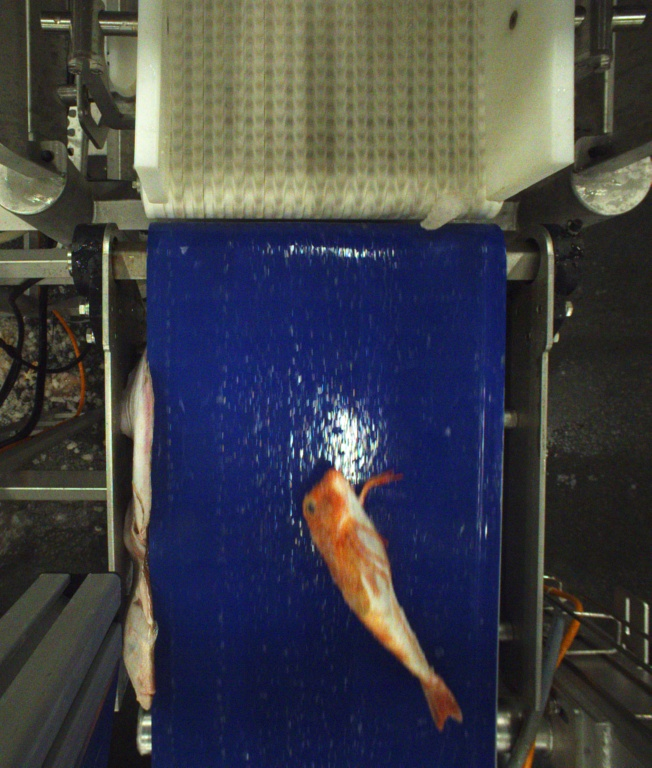GUU: (302, 466, 463, 732)
